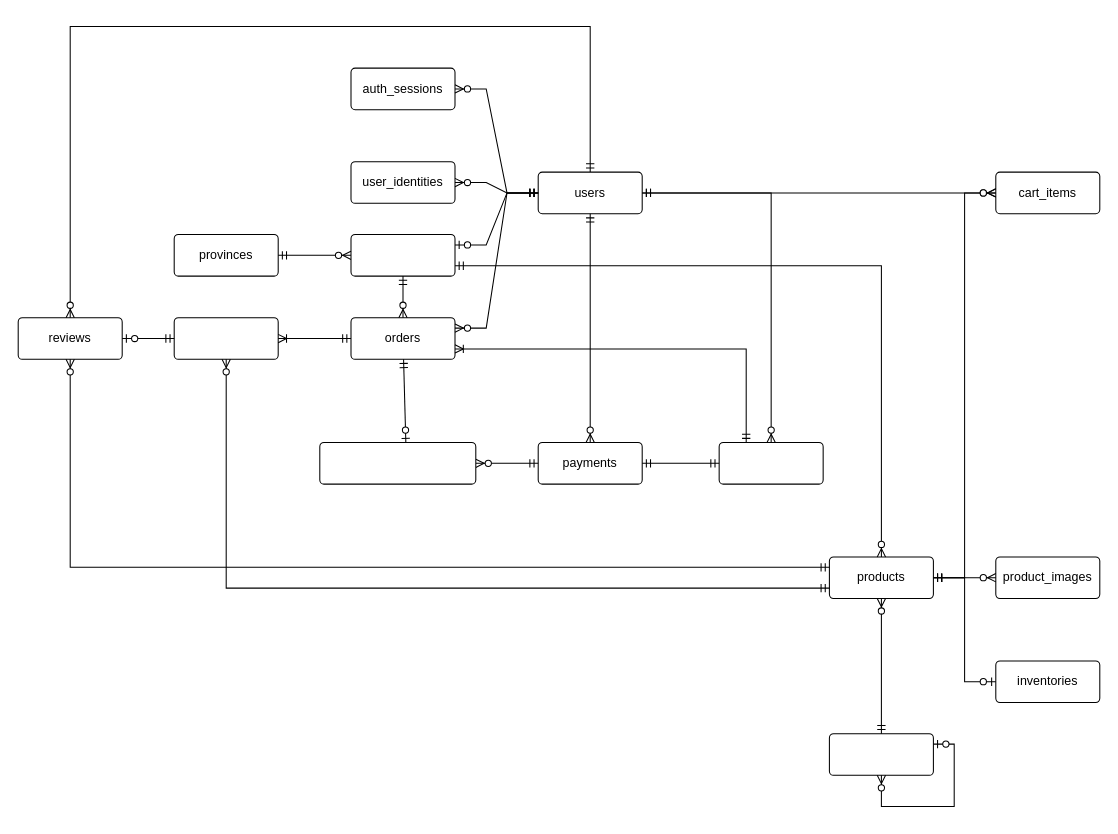
This 1118x834 diagram has some shape labels left out. Each missing label, with the centre of its shape:
"categories" goes at (880,754).
"checkouts" goes at (770,462).
"order_items" goes at (225,338).
"payment_allocations" goes at (397,462).
"shops" goes at (402,254).
